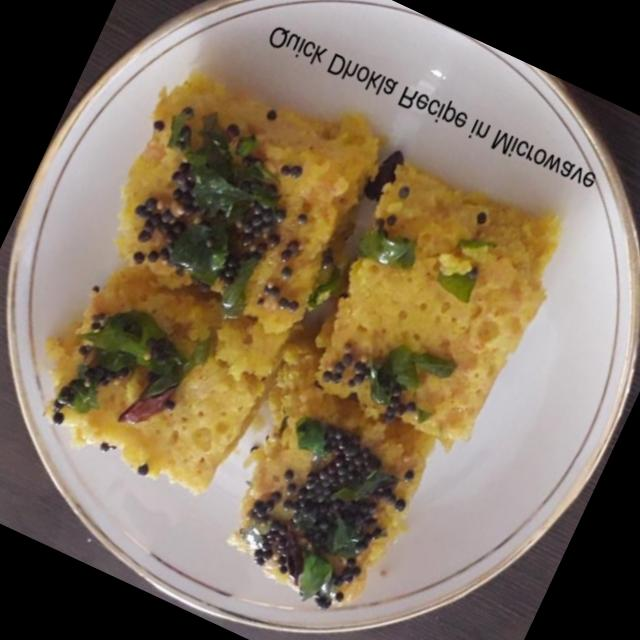dhokla: (8, 57, 570, 631)
